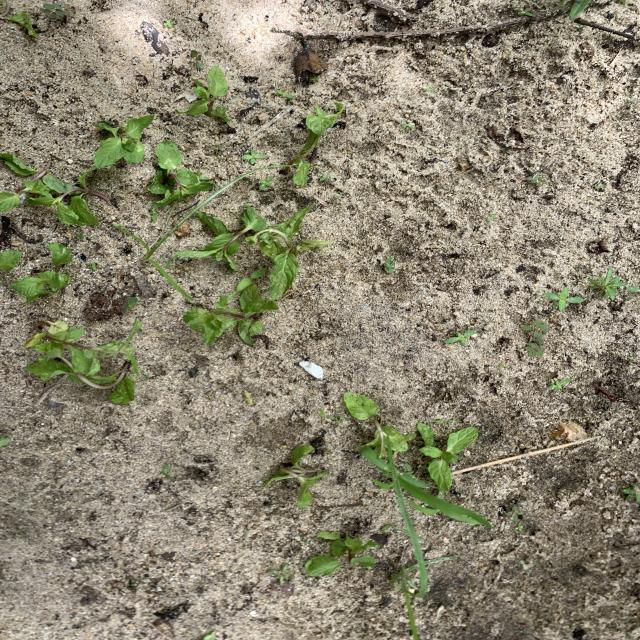crop: (244, 208, 327, 300), (25, 342, 135, 404), (25, 319, 142, 374), (183, 284, 278, 346), (180, 205, 266, 270), (284, 102, 344, 187), (29, 171, 111, 226), (147, 140, 214, 207), (0, 153, 73, 212), (343, 393, 415, 450), (261, 445, 327, 507), (417, 423, 478, 490), (11, 243, 73, 302), (304, 531, 379, 576), (94, 115, 154, 168), (176, 66, 230, 122), (0, 0, 45, 42)
weed: (114, 170, 259, 304), (388, 449, 428, 640), (398, 471, 490, 527), (588, 268, 640, 301), (361, 443, 392, 480), (543, 287, 584, 312), (235, 268, 266, 295), (521, 319, 550, 344), (266, 563, 293, 587), (41, 3, 74, 20), (444, 329, 477, 346), (317, 408, 347, 424), (241, 150, 267, 165), (524, 339, 545, 357), (188, 50, 205, 71), (547, 378, 572, 392), (621, 485, 640, 503), (434, 418, 466, 427), (118, 297, 138, 311), (508, 506, 524, 523), (258, 175, 273, 192), (526, 175, 547, 187), (273, 90, 295, 101), (243, 390, 257, 407), (401, 122, 422, 133), (206, 145, 224, 156), (160, 464, 173, 479), (373, 480, 394, 489), (150, 203, 159, 222), (162, 20, 177, 30), (88, 262, 100, 272), (73, 232, 86, 241), (319, 174, 332, 182), (334, 194, 339, 202)
